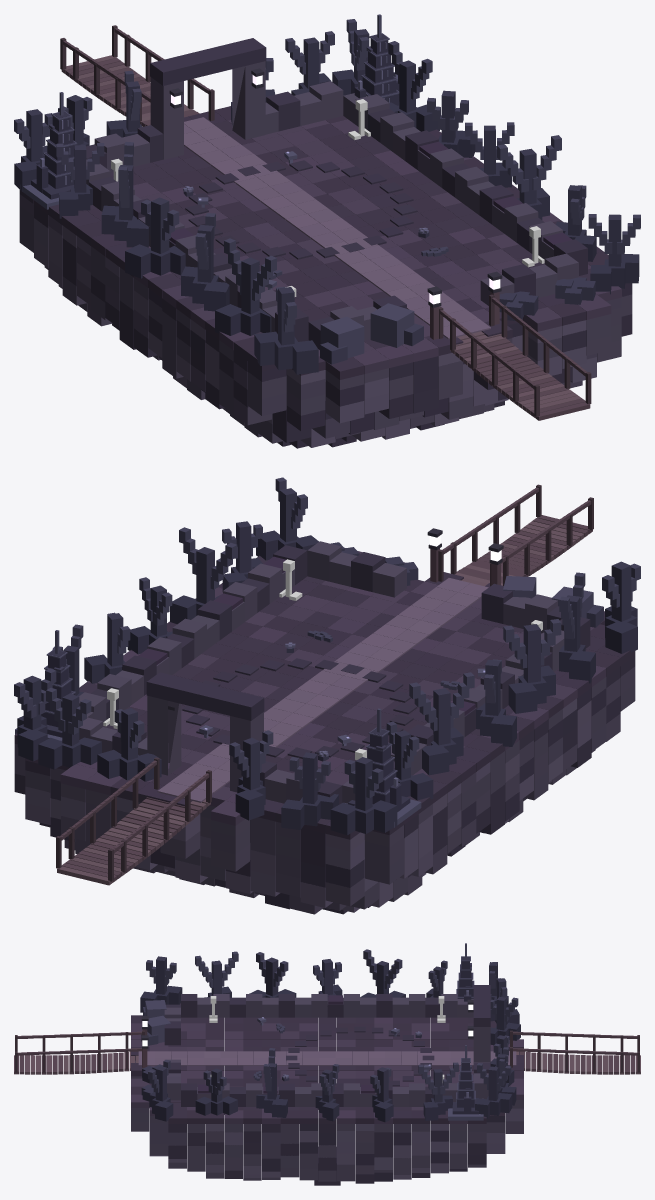
The model's file is room_boss_polluted.glb.
3 views of the same model, one above another, from view 1: azimuth 30°, elevation 25°; view 2: azimuth 150°, elevation 25°; view 3: azimuth 270°, elevation 25° (orthographic). The views are drawn at different scales.
Visible parts, largest first — view 1: room_boss_blocks, tree2_(0, 0).001, tree0_(0, 0).001, tree0_(0, 0).002, tree1_(0, 0).001, rock_boss_relic_0_(0, 0).001, tree4_(0, 0).001, tree5_(0, 0).001, tree2_(0, 0).002, tree5_(0, 0).002, rock_boss_relic_0_(0, 0).002, tree4_(0, 0).002 (+12 smaller); view 2: room_boss_blocks, tree4_(0, 0).001, tree2_(0, 0).002, tree0_(0, 0).003, tree1_(0, 0).004, tree0_(0, 0).001, tree5_(0, 0).001, tree0_(0, 0).004, tree0_(0, 0).005, tree4_(0, 0).003, tree1_(0, 0).003, tree2_(0, 0).001 (+11 smaller); view 3: room_boss_blocks, tree1_(0, 0).003, rock_boss_relic_0_(0, 0).002, tree5_(0, 0).002, tree0_(0, 0).001, tree3_(0, 0).001, tree5_(0, 0).001, tree1_(0, 0).001, tree2_(0, 0).002, tree4_(0, 0).001, tree4_(0, 0).003, tree3_(0, 0).002 (+10 smaller).
Boxes of the visible parts, x1=… form: room_boss_blocks: x1=19, y1=25, x2=632, y2=448; tree2_(0, 0).001: x1=215, y1=238, x2=276, y2=335; tree0_(0, 0).001: x1=254, y1=286, x2=318, y2=374; tree0_(0, 0).002: x1=125, y1=197, x2=185, y2=278; tree1_(0, 0).001: x1=588, y1=214, x2=640, y2=294; rock_boss_relic_0_(0, 0).001: x1=20, y1=92, x2=77, y2=209; tree4_(0, 0).001: x1=181, y1=213, x2=229, y2=311; tree5_(0, 0).001: x1=497, y1=135, x2=561, y2=219; tree2_(0, 0).002: x1=101, y1=142, x2=148, y2=247; tree5_(0, 0).002: x1=388, y1=41, x2=439, y2=131; rock_boss_relic_0_(0, 0).002: x1=354, y1=14, x2=399, y2=106; tree4_(0, 0).002: x1=56, y1=143, x2=104, y2=218; room_boss_blocks: x1=14, y1=484, x2=635, y2=914; tree4_(0, 0).001: x1=503, y1=619, x2=561, y2=713; tree2_(0, 0).002: x1=409, y1=672, x2=474, y2=775; tree0_(0, 0).003: x1=330, y1=757, x2=397, y2=835; tree1_(0, 0).004: x1=38, y1=687, x2=101, y2=769; tree0_(0, 0).001: x1=602, y1=561, x2=640, y2=653; tree5_(0, 0).001: x1=170, y1=527, x2=237, y2=624; tree0_(0, 0).004: x1=281, y1=752, x2=338, y2=829; tree0_(0, 0).005: x1=97, y1=708, x2=161, y2=781; tree4_(0, 0).003: x1=229, y1=730, x2=273, y2=820; tree1_(0, 0).003: x1=14, y1=668, x2=56, y2=761; tree2_(0, 0).001: x1=559, y1=572, x2=595, y2=683; room_boss_blocks: x1=14, y1=985, x2=640, y2=1185; tree1_(0, 0).003: x1=475, y1=1063, x2=512, y2=1118; rock_boss_relic_0_(0, 0).002: x1=448, y1=1045, x2=483, y2=1120; tree5_(0, 0).002: x1=418, y1=1062, x2=458, y2=1120; tree0_(0, 0).001: x1=140, y1=956, x2=182, y2=1012; tree3_(0, 0).001: x1=195, y1=1068, x2=237, y2=1115; tree5_(0, 0).001: x1=256, y1=1048, x2=287, y2=1117; tree1_(0, 0).001: x1=148, y1=1059, x2=173, y2=1121; tree2_(0, 0).002: x1=360, y1=949, x2=405, y2=997; tree4_(0, 0).001: x1=249, y1=952, x2=296, y2=997; tree4_(0, 0).003: x1=490, y1=994, x2=520, y2=1045; tree3_(0, 0).002: x1=370, y1=1067, x2=393, y2=1122.
Size of the model in its own units: 17.98 by 12.56 by 38.5.
